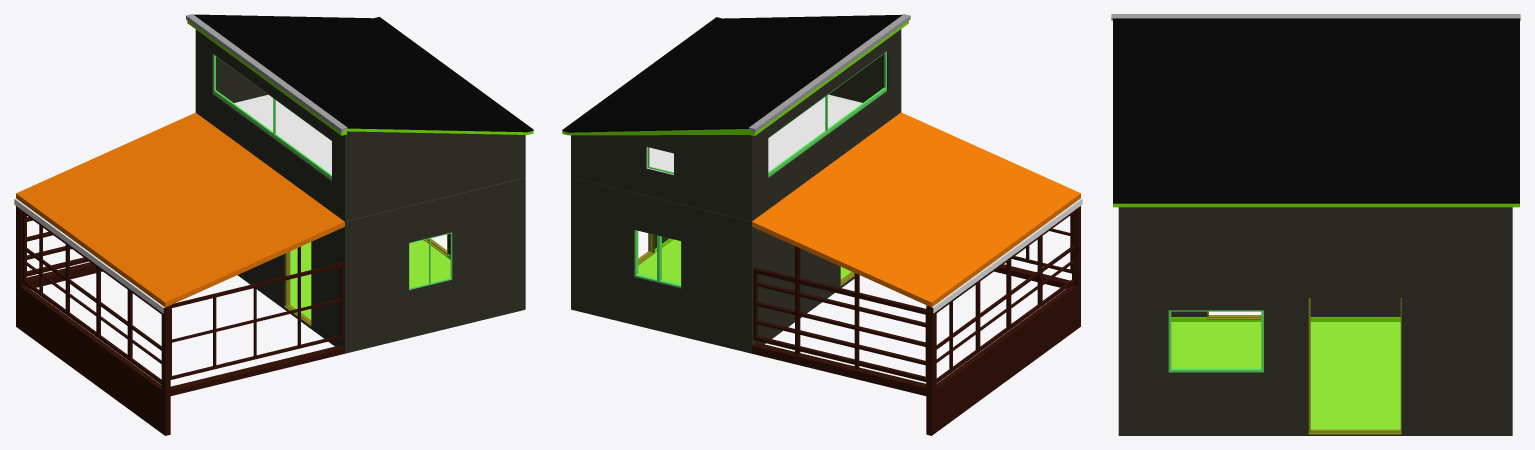
The model's file is paltanaviciu 1.fbx.
3 views of the same model, side by side, from view 1: azimuth 30°, elevation 25°; view 2: azimuth 150°, elevation 25°; view 3: azimuth 270°, elevation 25° (orthographic). The views are drawn at different scales.
Visible parts, largest first — view 1: Model; view 2: Model; view 3: Model.
Part boxes in pixels (left/top/right/bottom): Model: left=14, top=14, right=533, bottom=435; Model: left=562, top=14, right=1082, bottom=435; Model: left=1111, top=14, right=1520, bottom=435.
Bounding box in the file's own units: 317 × 220 × 232.
